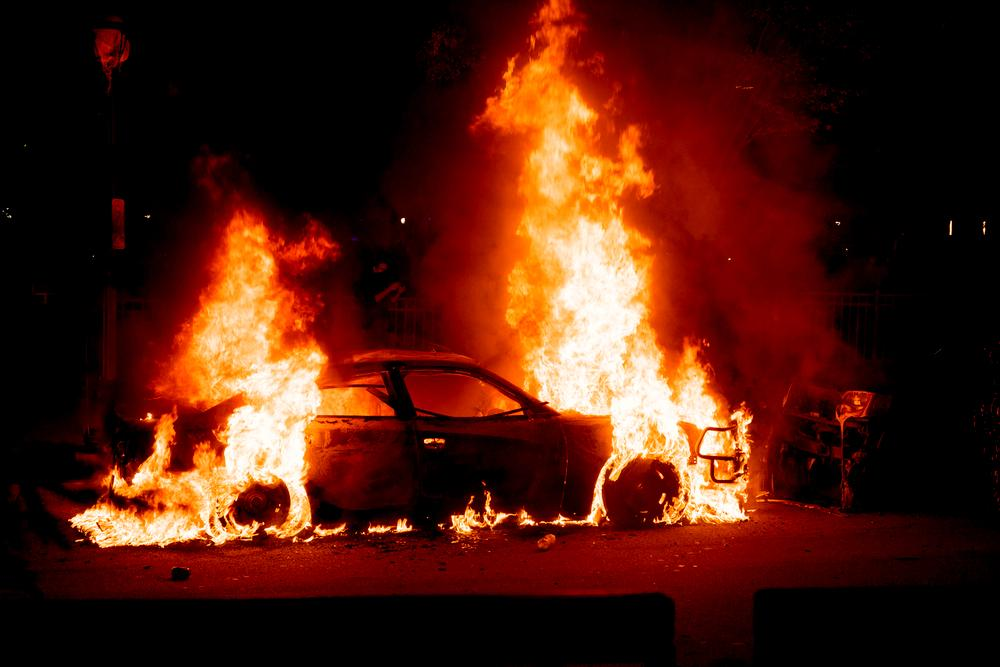fire: (71, 193, 341, 555), (471, 2, 652, 461), (653, 337, 755, 526), (586, 461, 629, 527), (440, 492, 507, 534), (520, 510, 585, 527), (365, 519, 422, 535)
smoke: (656, 47, 836, 340), (424, 146, 510, 356), (721, 340, 857, 396), (754, 397, 793, 462)
